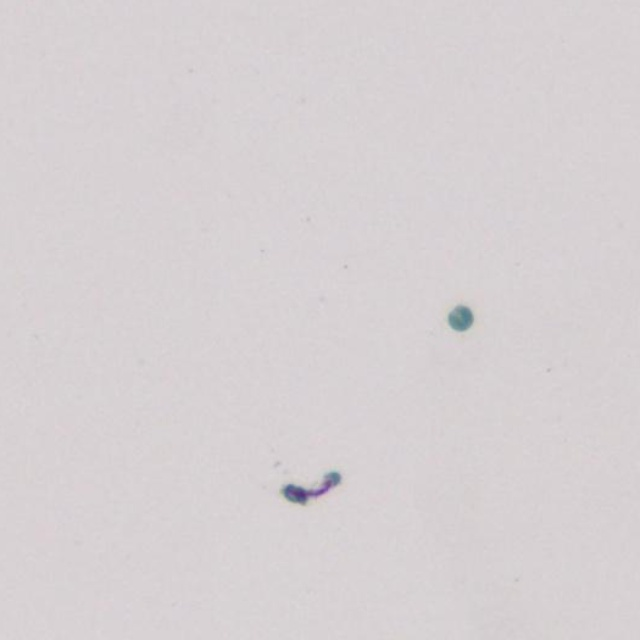non_viable: (447, 305, 473, 330)
